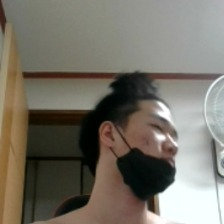OffMask: (117, 133, 192, 197)
